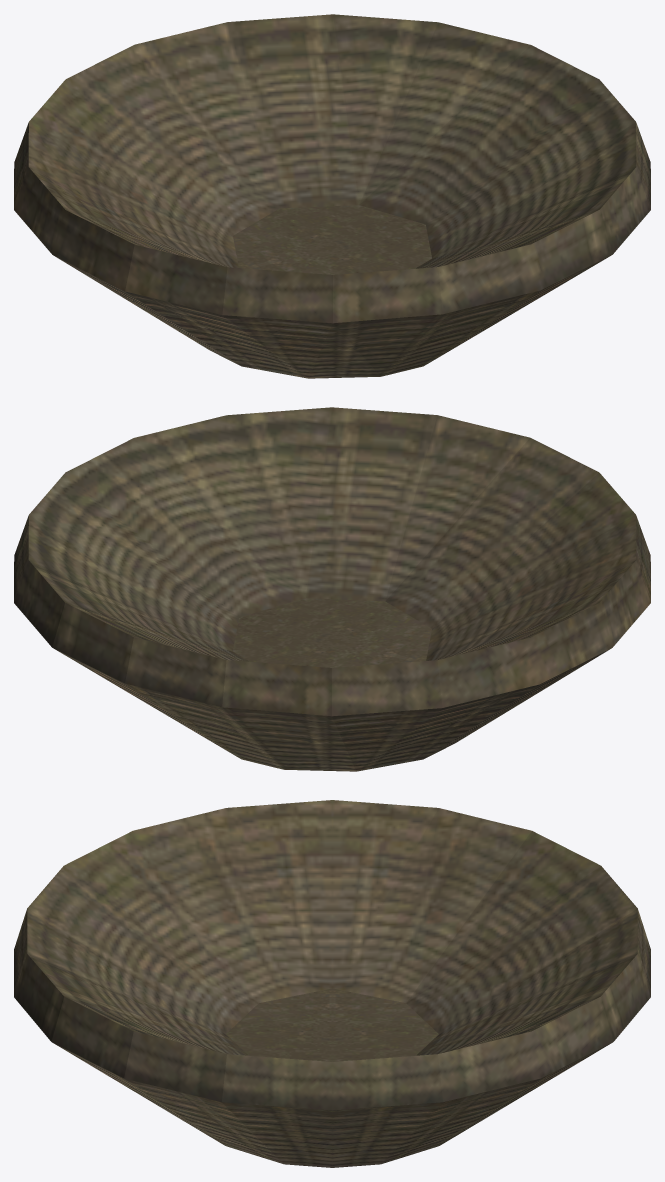
File: bg_lut_mawport_storeprop05_sm_artree.FBX
The picture shows the model from 3 angles, top to bottom: view 1: azimuth 30°, elevation 25°; view 2: azimuth 150°, elevation 25°; view 3: azimuth 270°, elevation 25°; orthographic projection.
Parts seen in each view (by area): view 1: bg_lut_mawport_storeprop05_sm_artree; view 2: bg_lut_mawport_storeprop05_sm_artree; view 3: bg_lut_mawport_storeprop05_sm_artree.
Boxes of the visible parts, <box> form: bg_lut_mawport_storeprop05_sm_artree: <box>14,14,650,378</box>; bg_lut_mawport_storeprop05_sm_artree: <box>14,407,650,771</box>; bg_lut_mawport_storeprop05_sm_artree: <box>14,800,650,1167</box>.
Bounding box in the file's own units: 54.56 × 16.39 × 53.48.
